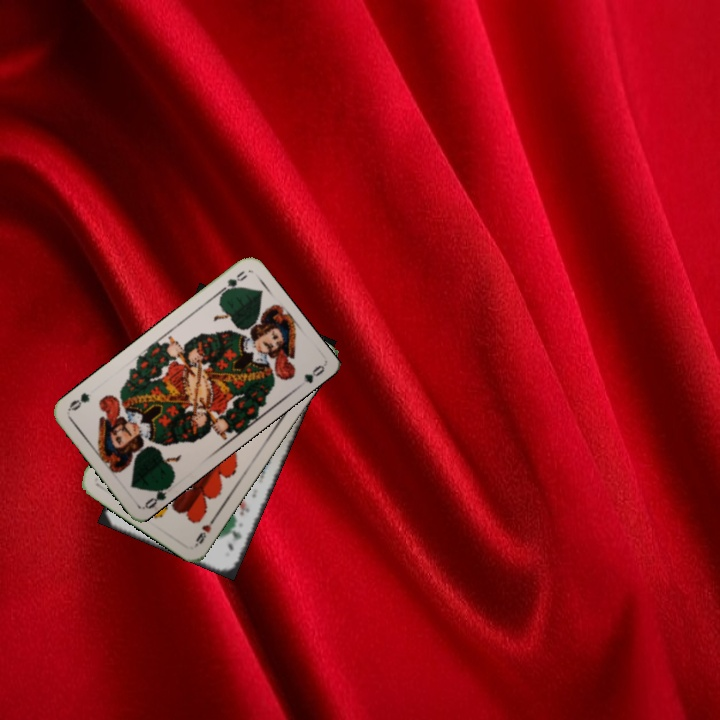GK: (224, 526, 244, 553)
GO: (214, 267, 250, 299), (141, 479, 175, 511)
H9: (191, 512, 219, 548)
